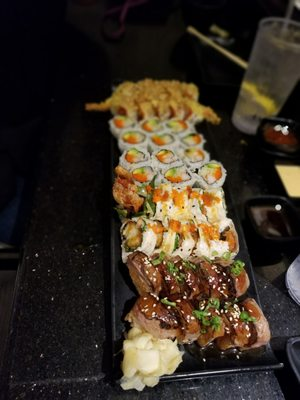pizza: (230, 16, 300, 139)
sushi: (285, 250, 300, 307)
